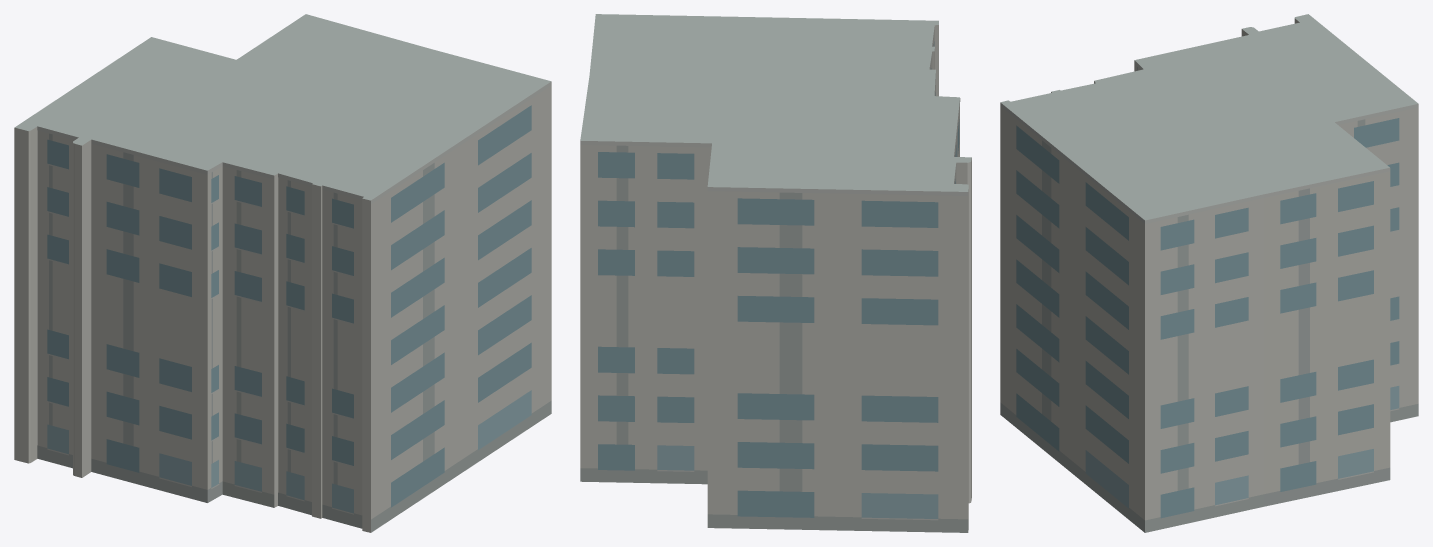
File: survey-upis-32837032.glb
3 views of the same model, side by side, from view 1: azimuth 30°, elevation 25°; view 2: azimuth 150°, elevation 25°; view 3: azimuth 270°, elevation 25° (orthographic). The views are drawn at different scales.
Visible parts, largest first — view 1: survey-upis-32837032.tmp; view 2: survey-upis-32837032.tmp; view 3: survey-upis-32837032.tmp.
Boxes of the visible parts, bbox=[...] form: survey-upis-32837032.tmp: bbox=[14, 14, 551, 532]; survey-upis-32837032.tmp: bbox=[580, 14, 971, 532]; survey-upis-32837032.tmp: bbox=[1000, 14, 1418, 532].
Size of the model in its own units: 28.5 by 20.1 by 24.4.
